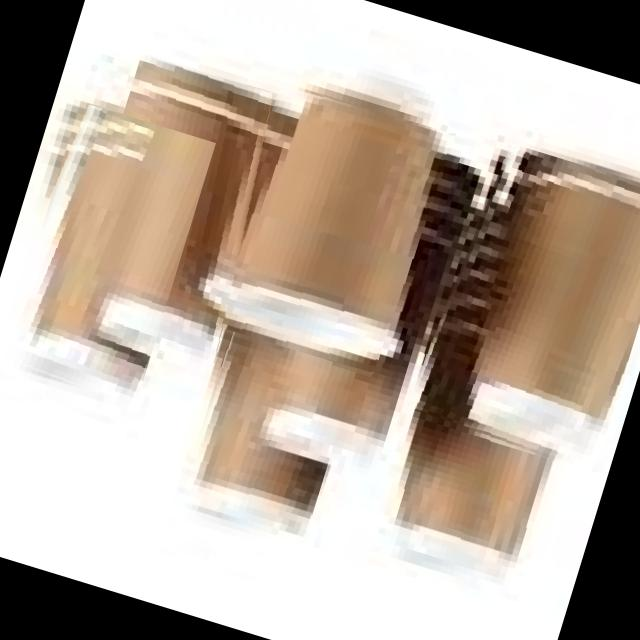PaperCardboard: (204, 98, 439, 359), (86, 52, 269, 357), (399, 219, 557, 568), (462, 144, 640, 448), (33, 109, 155, 388), (189, 319, 324, 539)
